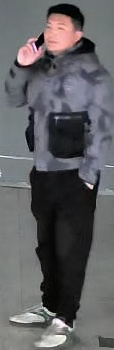phone: (6, 2, 99, 103)
